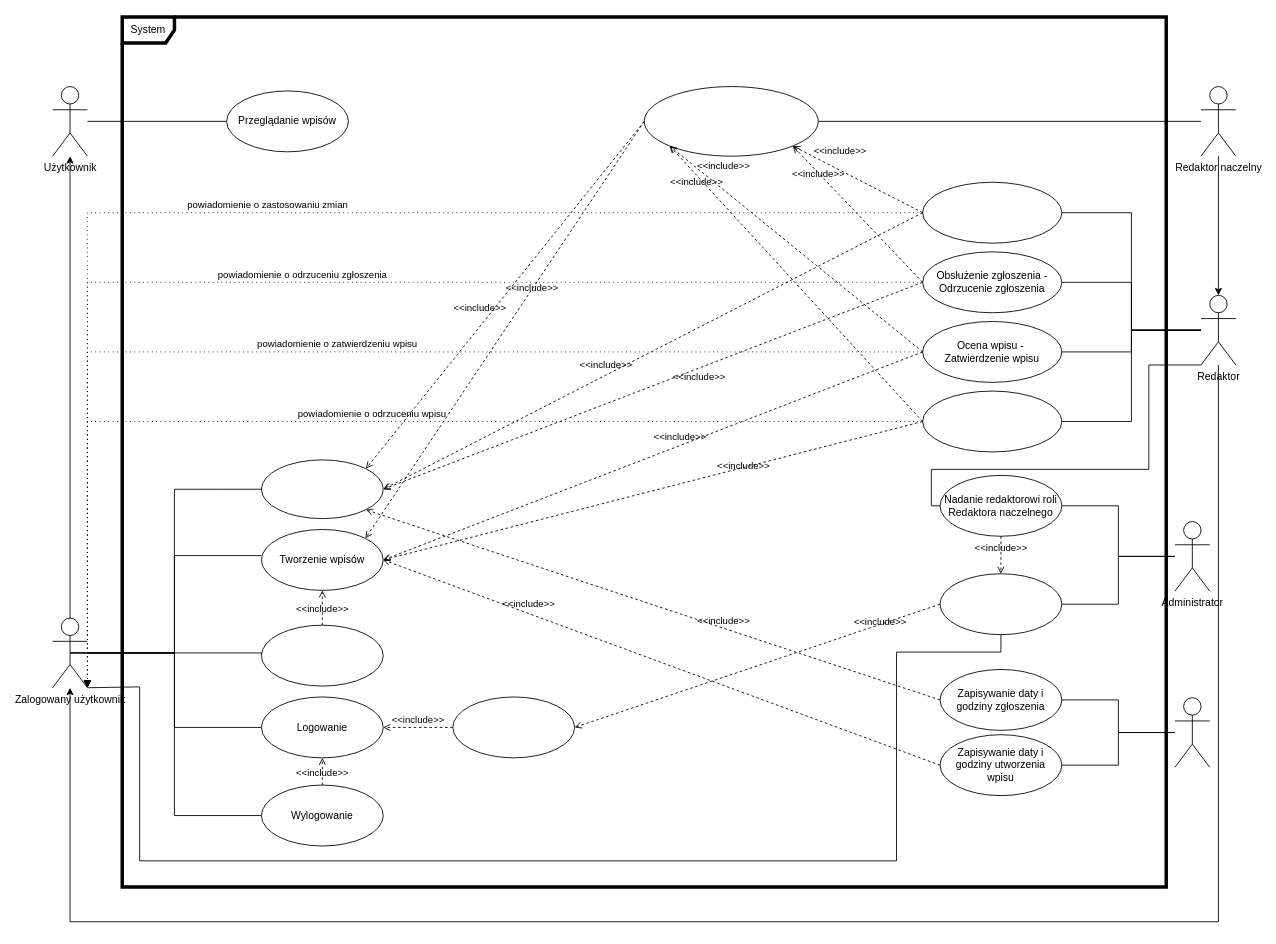
This 1276x944 diagram has some shape labels left out. Here are the shapes that lost their labels. From the top down, the centre of each, then its label:
(730,121): Przydzielanie zgłoszeń do redaktorów
(992,212): Obsłużenie zgłoszenia - Zastosowanie zmian we wpisie
(992,421): Ocena wpisu - Odrzucenie wpisu
(322,489): Zgłaszanie błędu we wpisie
(1000,604): Nadanie zalogowanemu użytkownikowi roli Redaktora
(322,655): Edytowanie autorskich wpisów
(513,727): Rejestracja
(1192,732): Zegar systemowy
